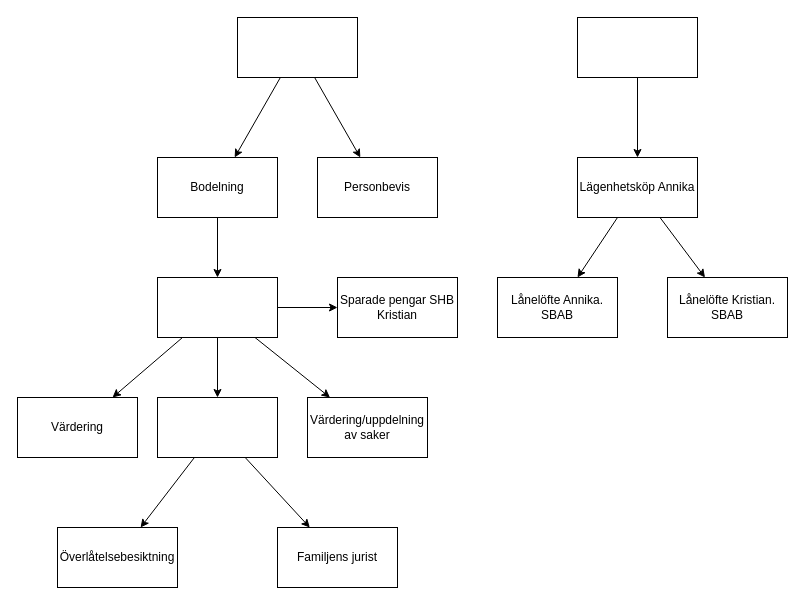
Image size: 805x605. Some labels were removed from this diagram. Each missing label, with the centre of its shape:
"Betala. Bodelningslikvid" belongs at (x=217, y=307).
"Flytt" belongs at (x=637, y=47).
"Hur gör man avdrag?" belongs at (x=217, y=427).
"Skillmässa" belongs at (x=297, y=47).
